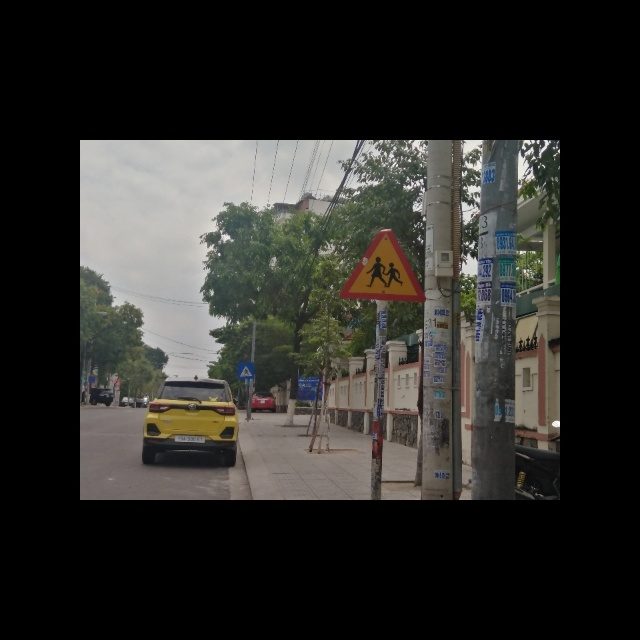Trẻ em ngang qua: (343, 229, 426, 302)
Đường dành cho người đi bộ: (238, 361, 256, 380)
